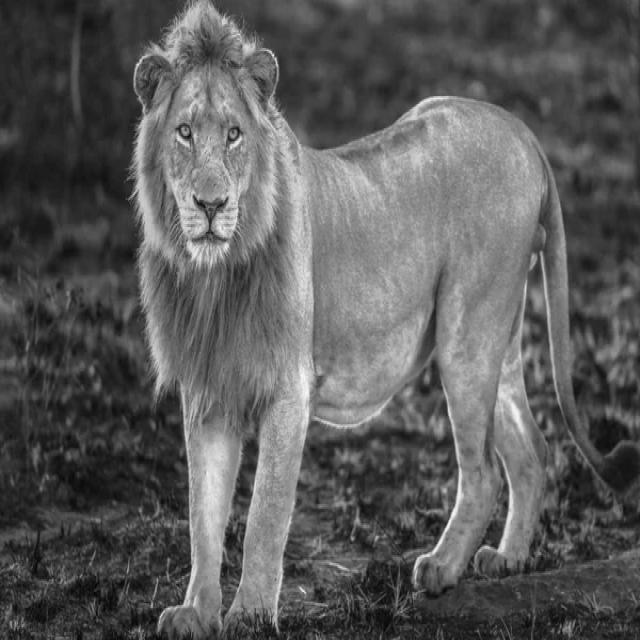Animal: (132, 1, 638, 640)
